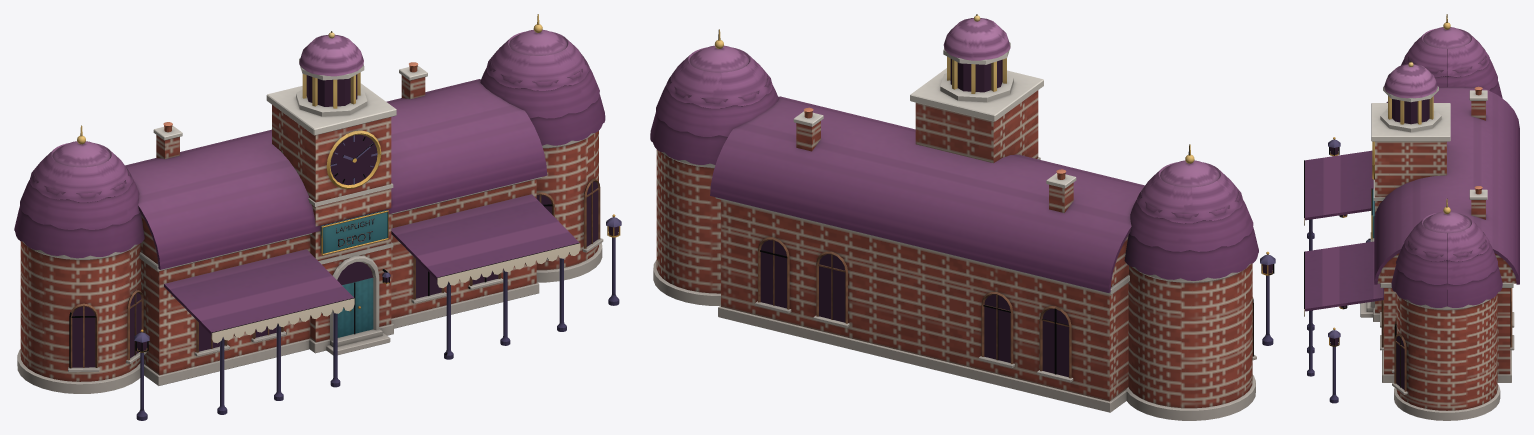
Rendered from depot_hub.fbx.
3 renders of one model, left to right at view 1: azimuth 30°, elevation 25°; view 2: azimuth 150°, elevation 25°; view 3: azimuth 270°, elevation 25°, orthographic. The views are drawn at different scales.
Visible parts, largest first — view 1: depot_hub, depot_hub_glow; view 2: depot_hub, depot_hub_glow; view 3: depot_hub, depot_hub_glow.
Part boxes in pixels (<box>): depot_hub: <box>14,14,621,420</box>; depot_hub_glow: <box>72,74,618,367</box>; depot_hub: <box>650,14,1275,420</box>; depot_hub_glow: <box>760,59,1272,377</box>; depot_hub: <box>1304,14,1519,420</box>; depot_hub_glow: <box>1330,99,1429,389</box>.
Size of the model in its own units: 6073 by 3000 by 2392.
Materials: 1 (1 with a texture image).
